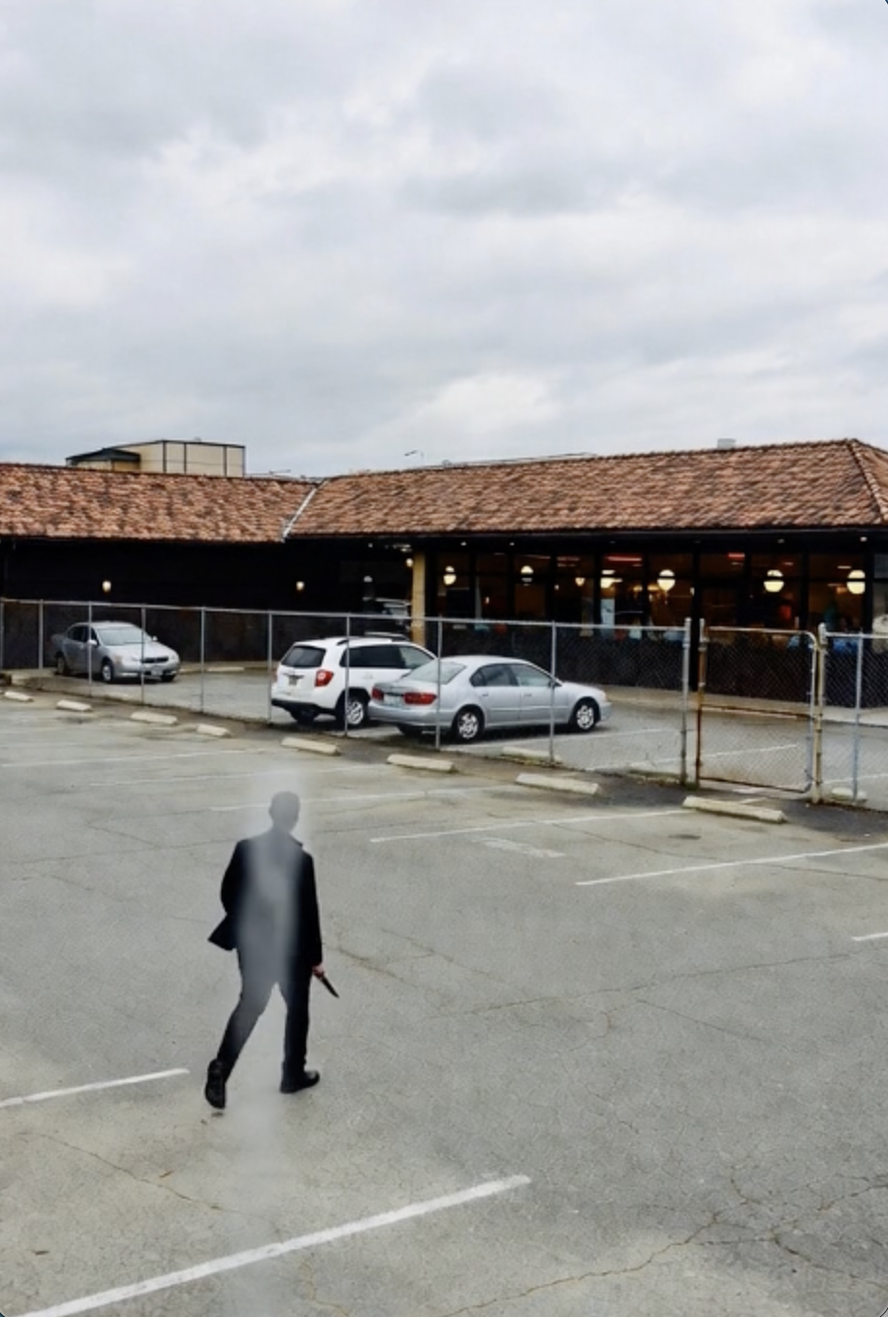Heavy Gun: (203, 781, 344, 1110)
Knife: (310, 953, 342, 1000)
